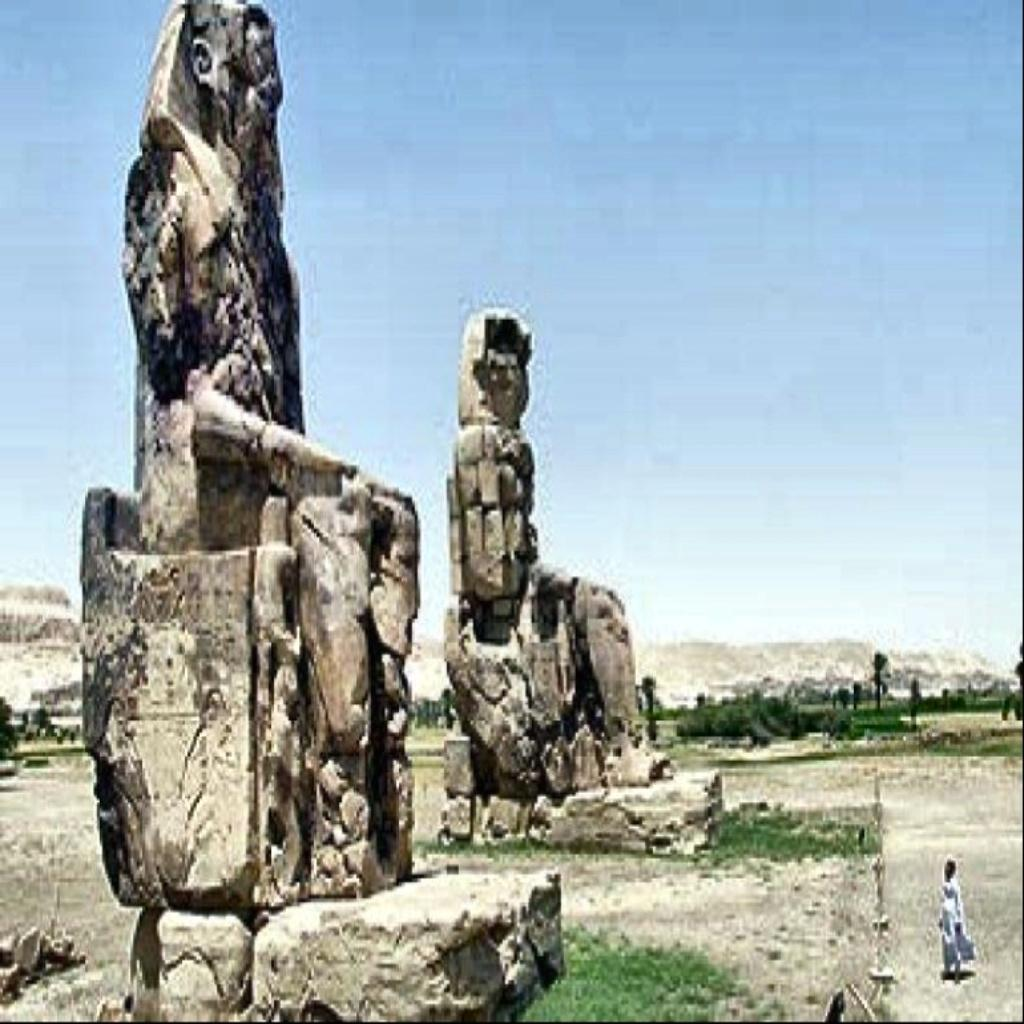Colossoi of Memnon: (76, 2, 424, 1010), (438, 302, 654, 820)
